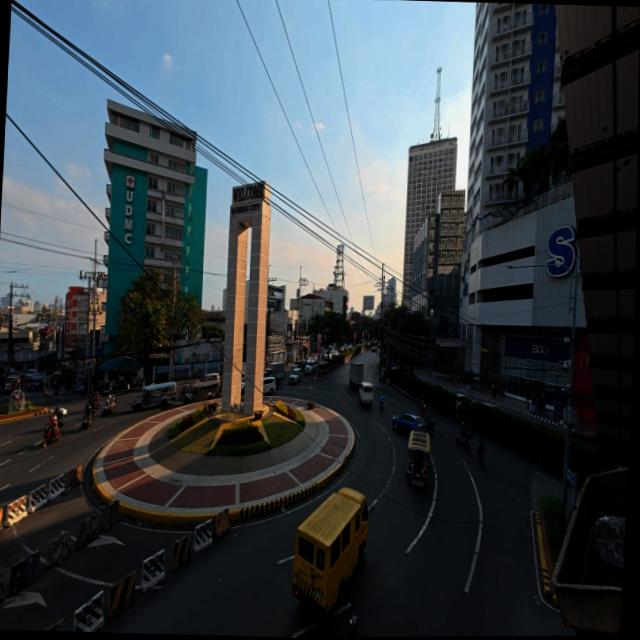Jeepneys: (131, 382, 176, 412), (406, 430, 430, 486), (179, 378, 220, 404)
car: (393, 414, 425, 433), (571, 431, 597, 446), (262, 375, 277, 396), (3, 375, 20, 392), (455, 393, 471, 411), (28, 376, 42, 392), (304, 358, 317, 374), (481, 401, 501, 411), (289, 369, 302, 384), (200, 372, 219, 382), (51, 372, 60, 386), (293, 361, 306, 370), (24, 370, 38, 378), (241, 377, 244, 393)
motorcycle: (42, 423, 62, 448), (455, 432, 470, 450), (102, 401, 116, 416), (56, 408, 67, 426), (80, 415, 92, 430), (339, 634, 367, 640), (84, 403, 96, 417), (425, 420, 435, 434), (102, 403, 109, 416), (478, 451, 484, 466), (54, 386, 59, 396), (380, 401, 384, 411)
trucks: (264, 363, 285, 386), (349, 362, 364, 388)
vans: (293, 488, 368, 617), (359, 381, 373, 404)
